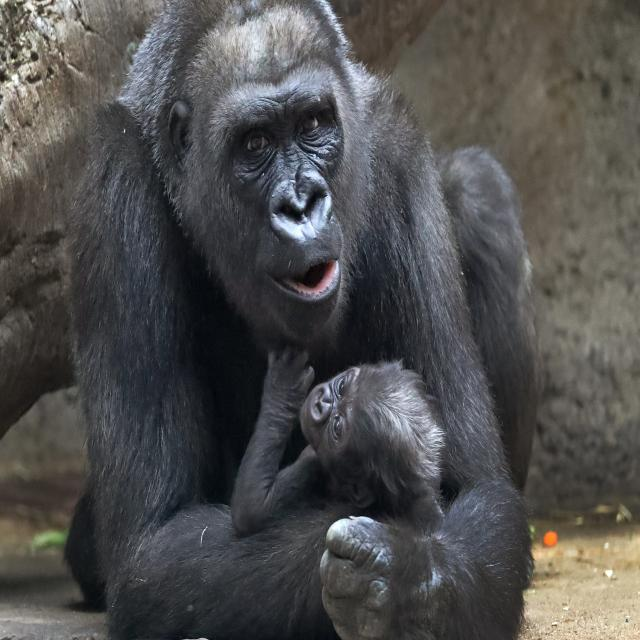Gorilla: (58, 0, 546, 638), (230, 330, 460, 527)
